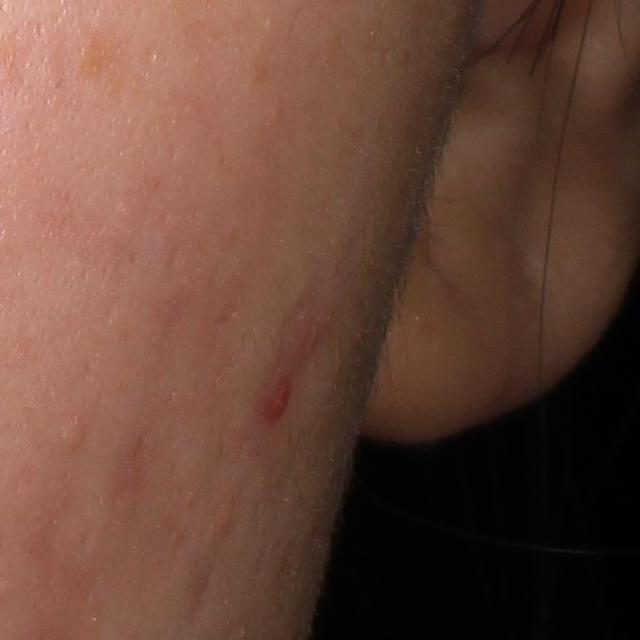comedo: (60, 415, 88, 449)
melasma: (75, 36, 127, 85)
papule: (264, 384, 294, 423)
